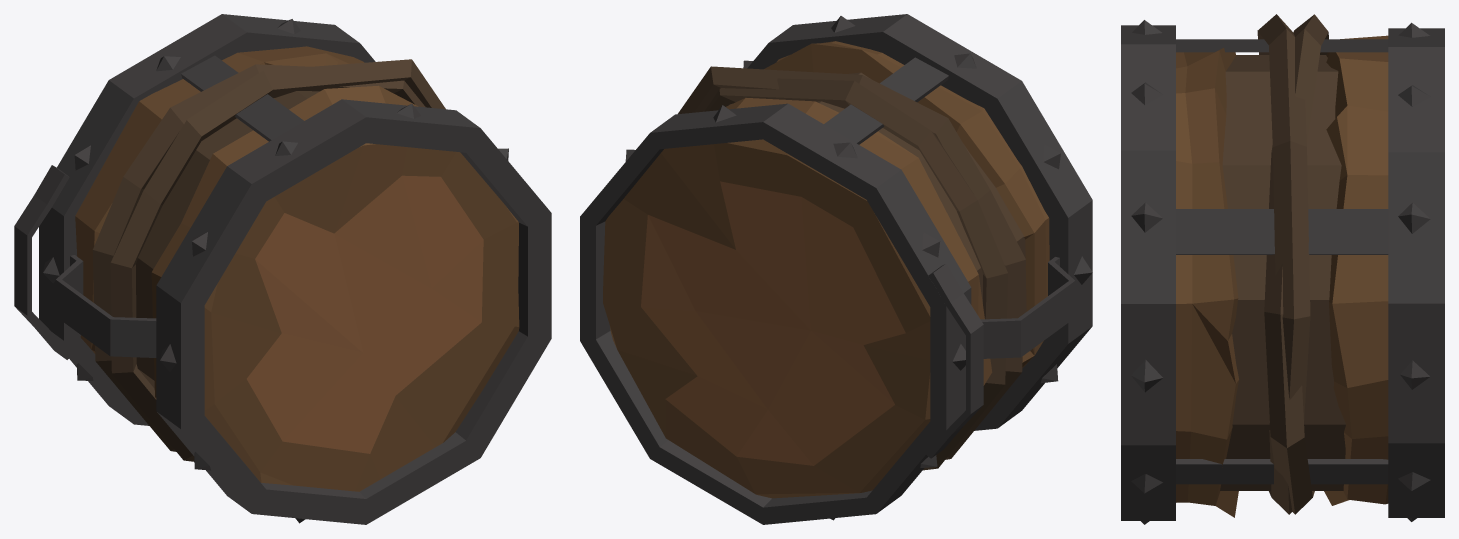
The model's file is SM_Drum_Orc.fbx.
3 renders of one model, left to right at view 1: azimuth 30°, elevation 25°; view 2: azimuth 150°, elevation 25°; view 3: azimuth 270°, elevation 25°, orthographic. The views are drawn at different scales.
Parts seen in each view (by area): view 1: SM_Drum_Orc; view 2: SM_Drum_Orc; view 3: SM_Drum_Orc.
Boxes of the visible parts, x1,y1,x2,y2 form: SM_Drum_Orc: [14, 14, 551, 524]; SM_Drum_Orc: [580, 14, 1092, 524]; SM_Drum_Orc: [1121, 14, 1444, 524].
Size of the model in its own units: 0.9839 by 0.9267 by 0.5934.
